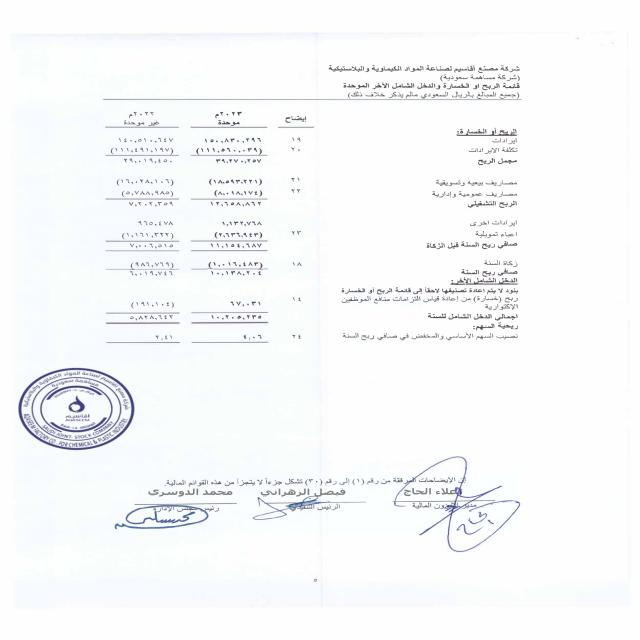financial_sheets: (331, 80, 528, 90)
table: (83, 102, 310, 366)
